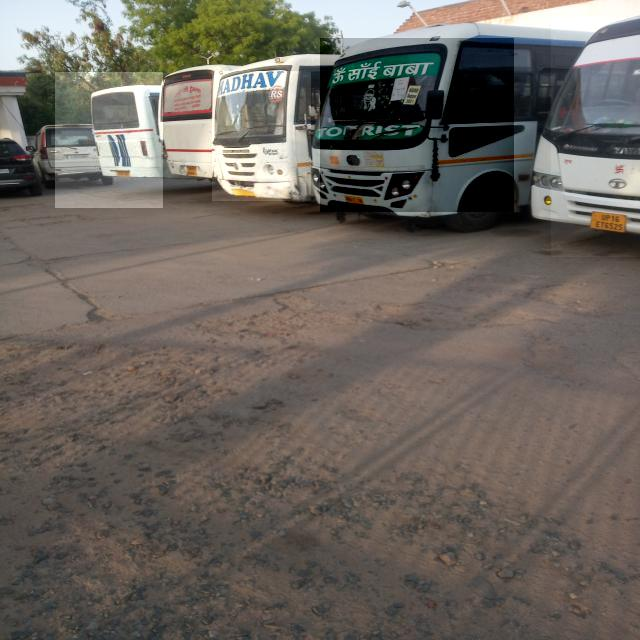Bus: (320, 39, 514, 212), (551, 17, 640, 257), (55, 72, 164, 208), (212, 72, 311, 202)
